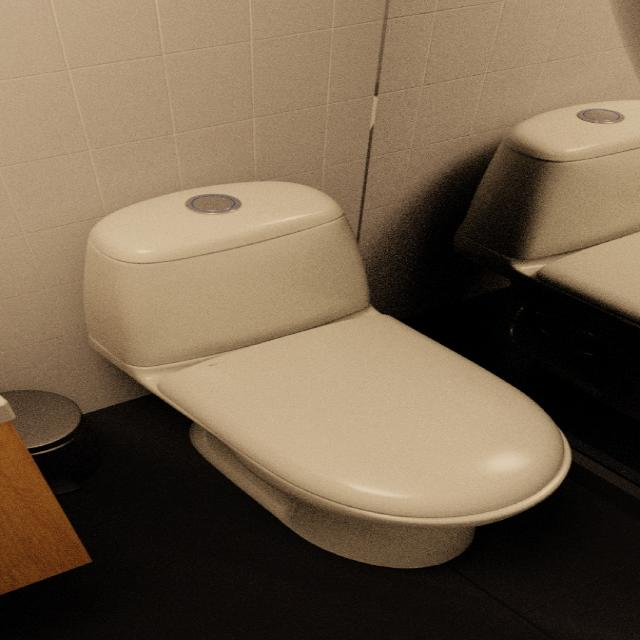toilet: (81, 179, 573, 569)
